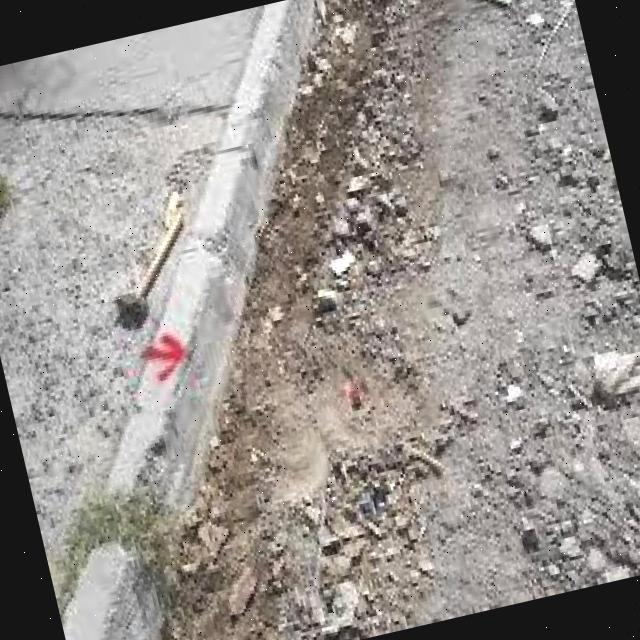curb: (21, 385, 288, 640), (146, 1, 361, 259), (106, 238, 298, 418)
